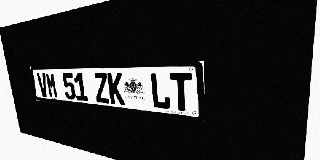1: (73, 73, 88, 101)
5: (62, 73, 76, 100)
K: (107, 73, 125, 105)
L: (149, 73, 171, 110)
M: (45, 73, 58, 98)
T: (170, 73, 193, 112)
V: (37, 73, 49, 97)
Z: (93, 73, 110, 104)
